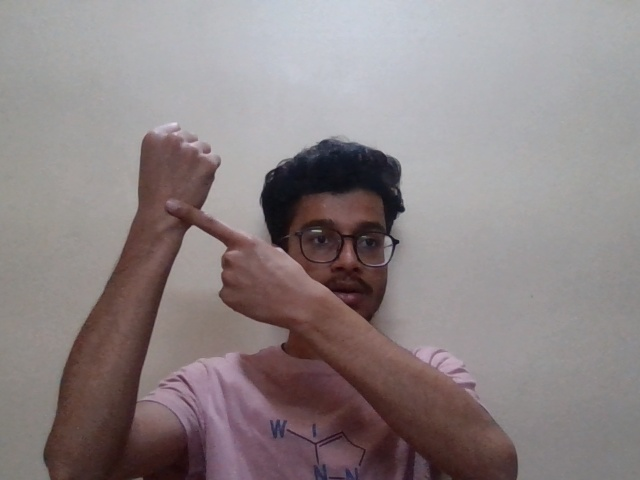time: (127, 111, 301, 334)
